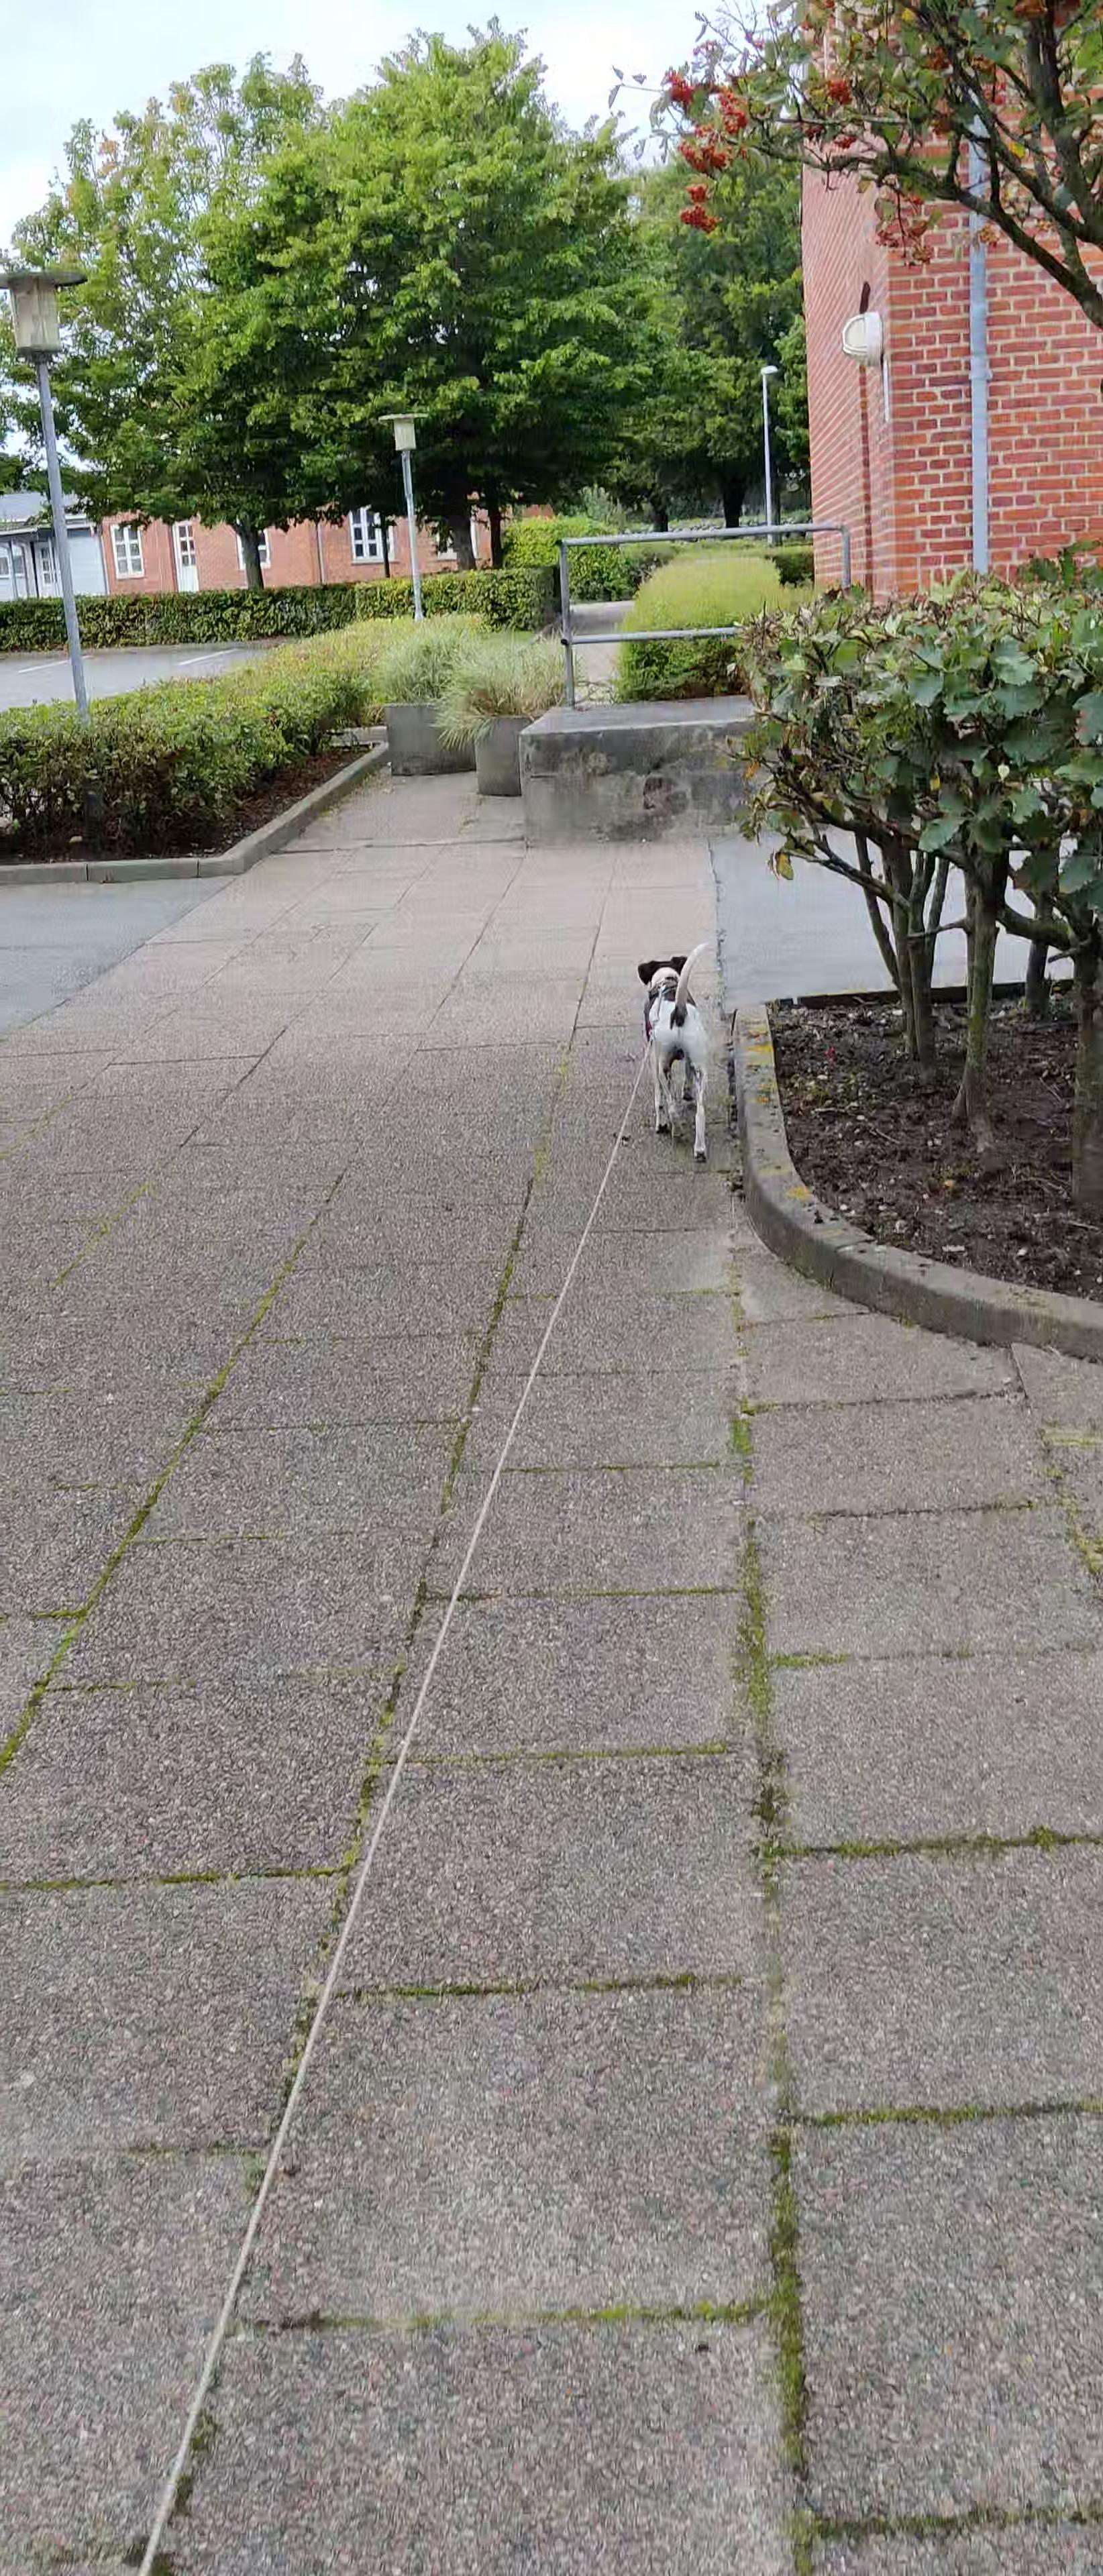Dog: (633, 938, 718, 1163)
